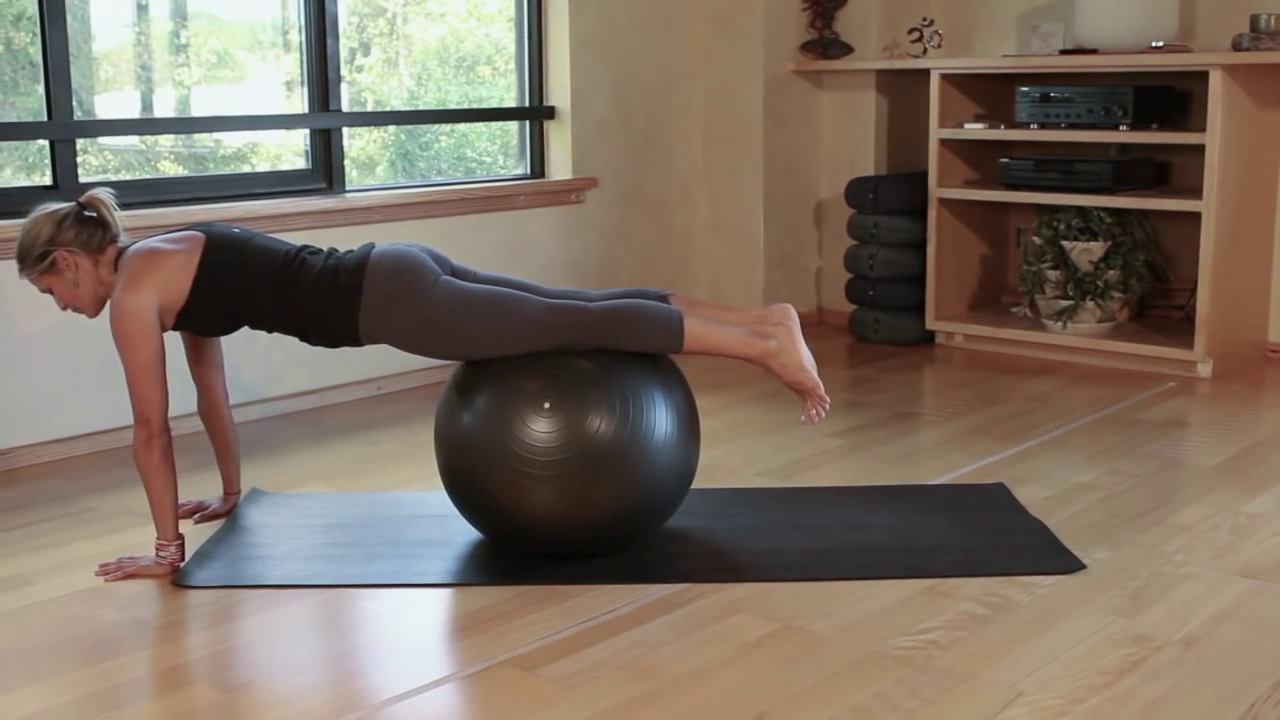yogaball: (427, 346, 711, 563)
